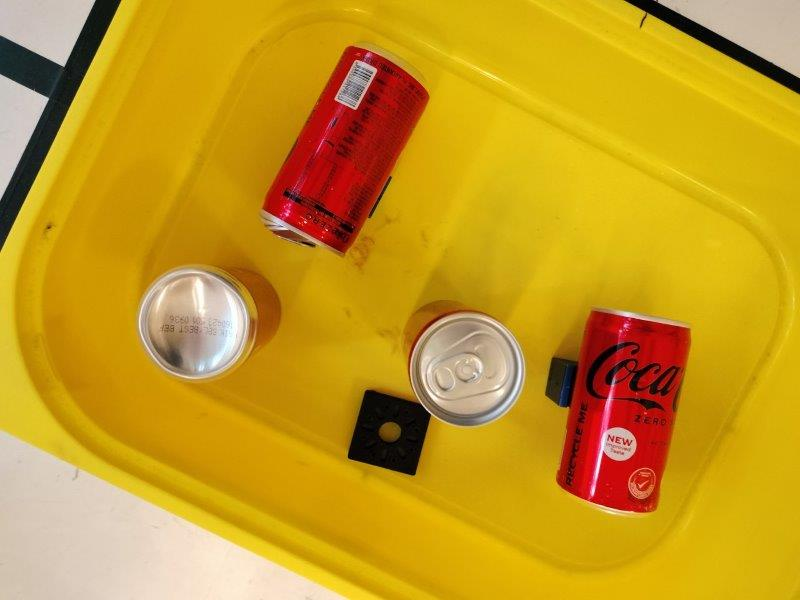Coke: (260, 43, 430, 258), (558, 305, 691, 516), (135, 263, 281, 381), (403, 299, 526, 426)
